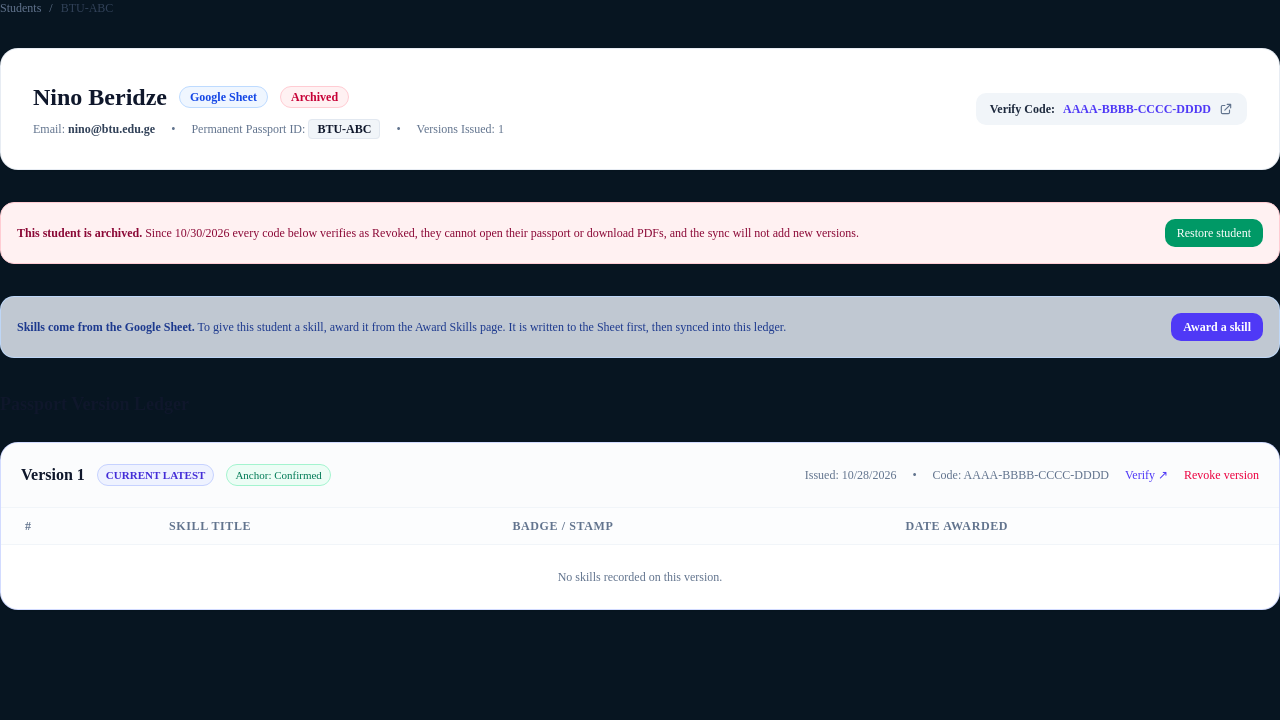
Scenario: admin student detail revocation controls › marks an archived student and restores them after a confirm
Expected: the message with test id "archived-banner" shows "Revoked", [230,226,859,240]
What coordinates should you click on to do the following:
click the button "Restore student"
I would click on:
 (1214, 233)
Its box is [1165,219,1263,247].
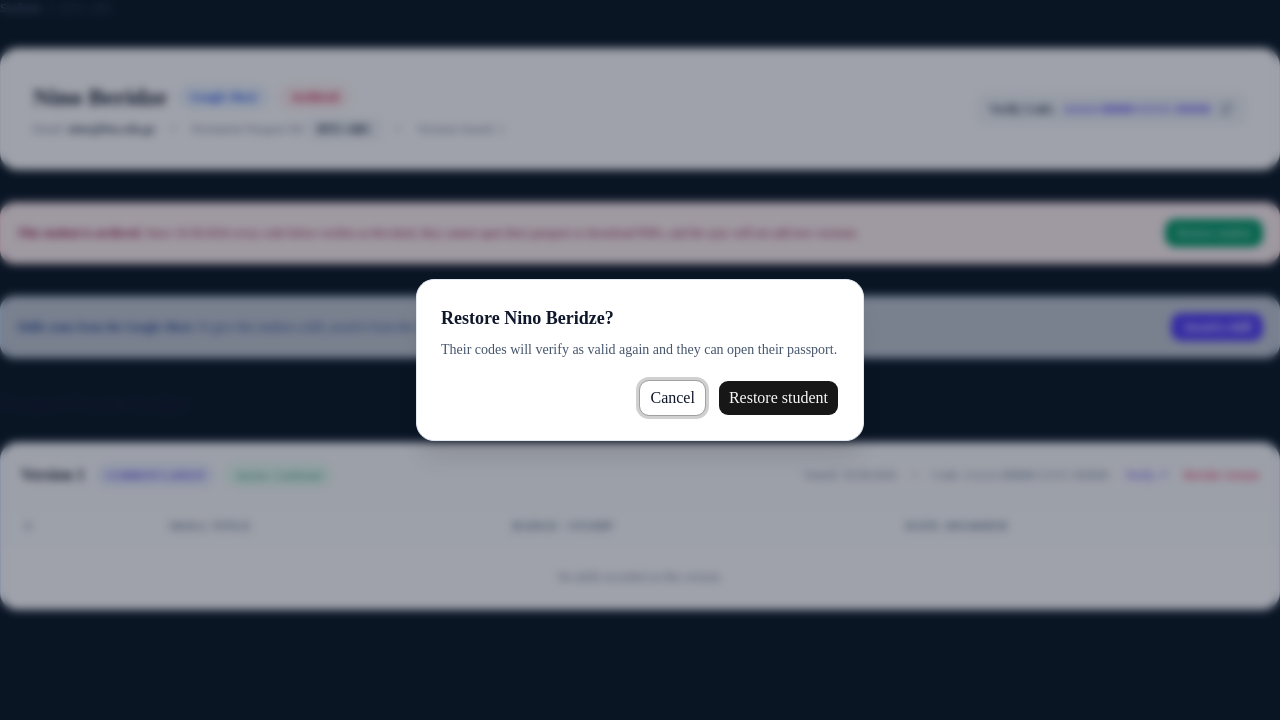
What coordinates should you click on to do the following:
click the button "Restore student"
I would click on:
 (778, 398)
Its box is [718,380,839,416].
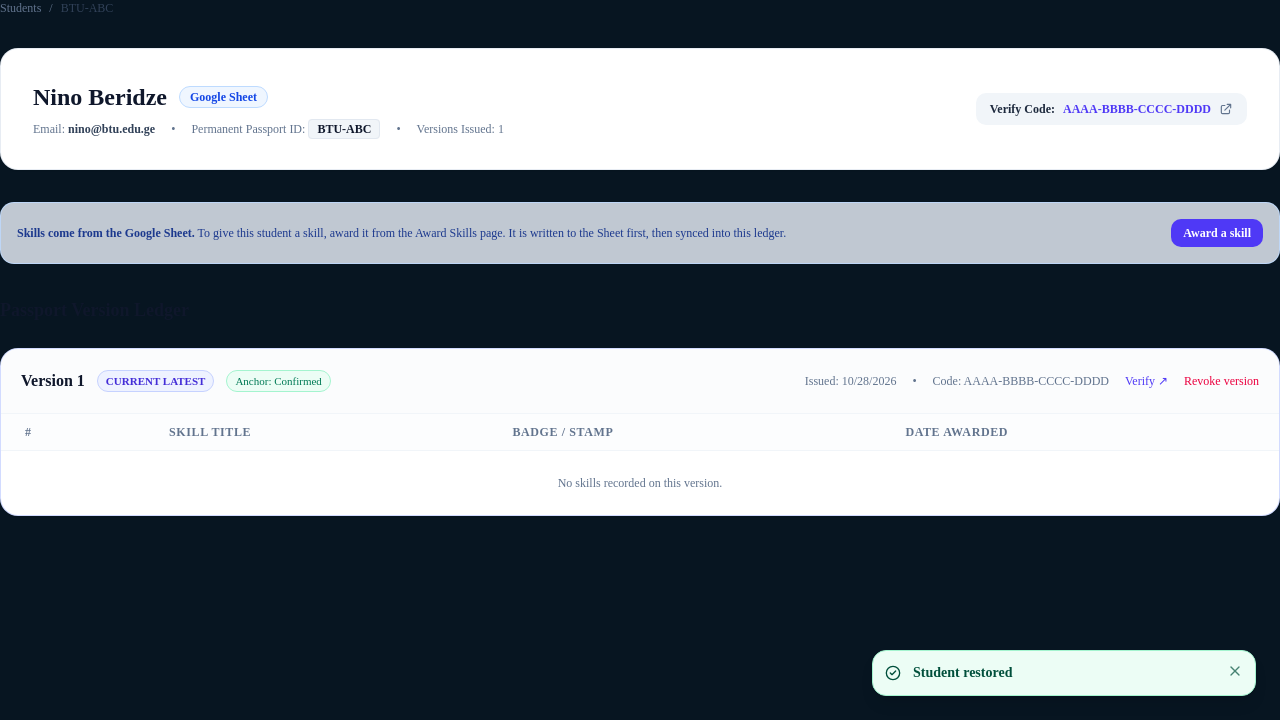
Expected: the message with test id "archived-banner" is gone
